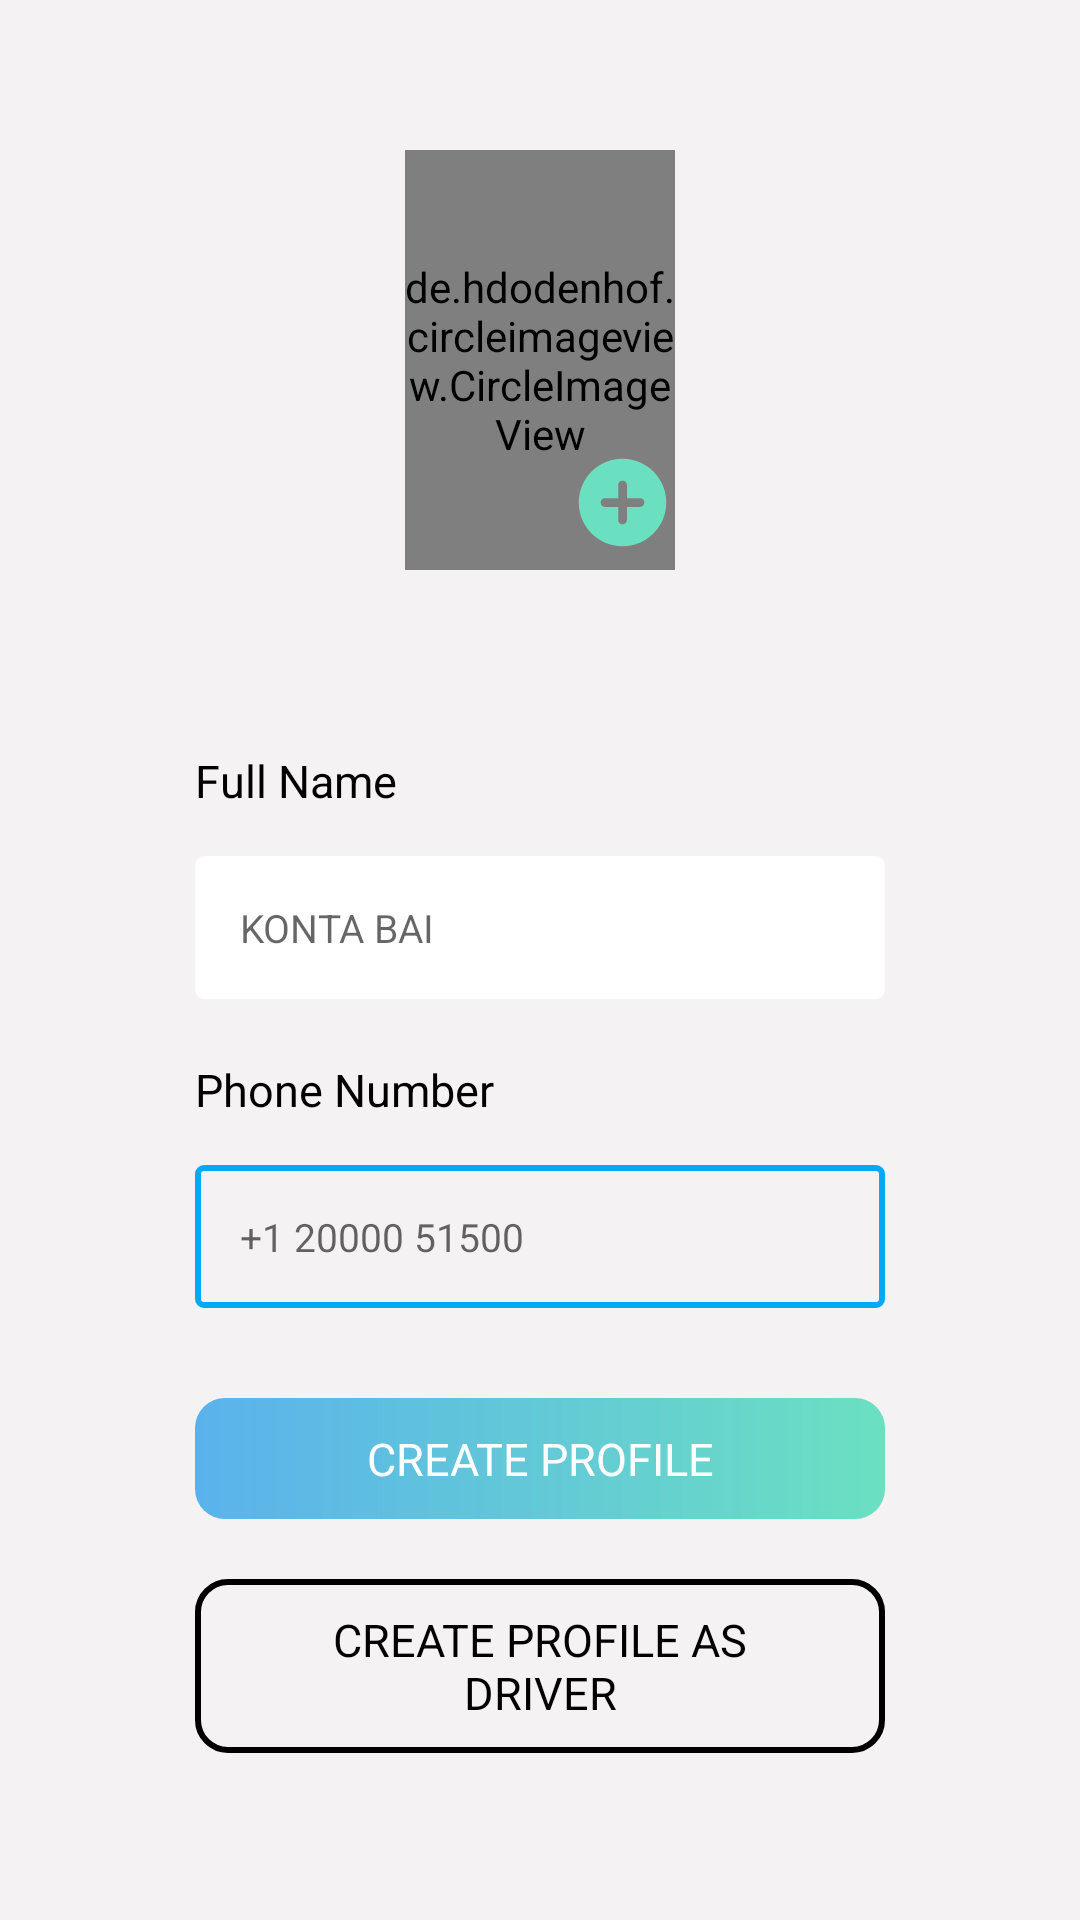

Icon click points for this 1080px×1920px phone screenshot, format [x,y]:
add circle: [622,502]
